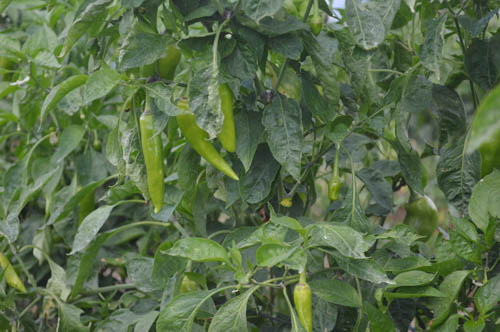ChiliPepper: (180, 112, 237, 180), (143, 119, 169, 211), (210, 78, 238, 152), (474, 93, 499, 170), (289, 281, 315, 326), (409, 196, 434, 235)
